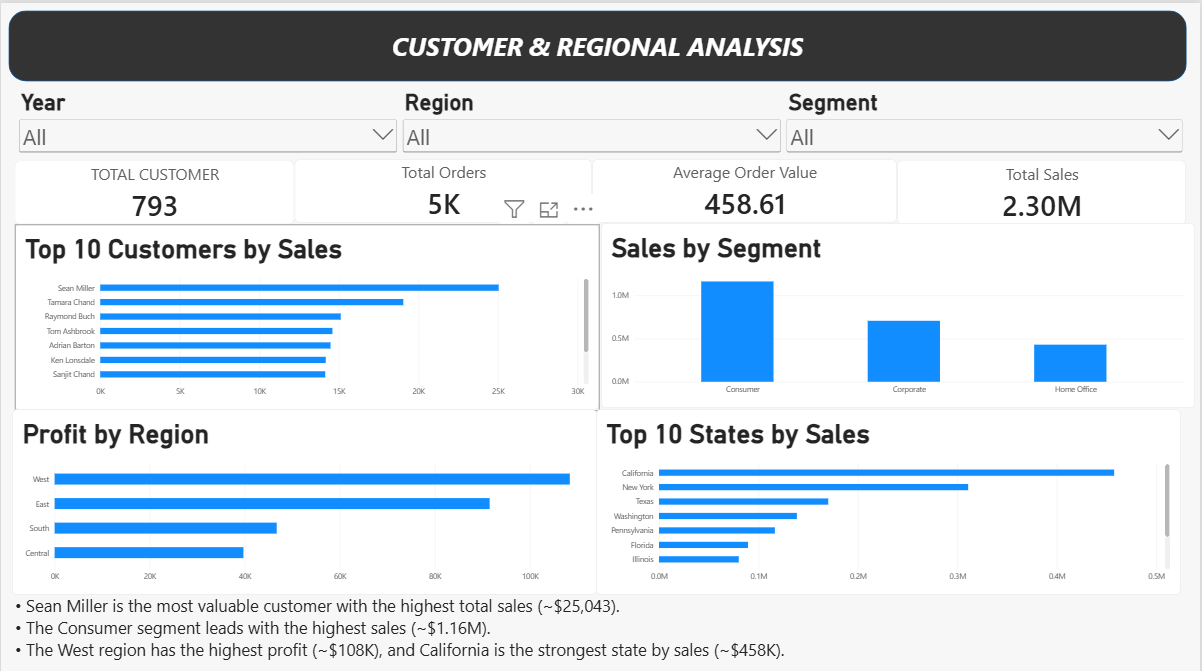

What the dashboard file says about the page in this screenshot:
{"tool":"powerbi","page":{"name":"Customer Analysis","canvas":[1920,1080],"ordinal":2},"visuals":[{"type":"shape","box":[0,0,1909.2,137.5],"z":0},{"type":"slicer","fields":{"Values":["Superstore_Sales_Cleaned.Order Date.Variation.Date Hierarchy.Year"]},"box":[23.8,138.5,614.6,114.7],"z":1000},{"type":"slicer","fields":{"Values":["Superstore_Sales_Cleaned.Region"]},"box":[637.5,137.5,614.6,114.7],"z":2000},{"type":"slicer","fields":{"Values":["Superstore_Sales_Cleaned.Segment"]},"box":[1252.1,137.5,643.8,114.6],"z":3000},{"type":"cardVisual","fields":{"Data":["Superstore_Sales_Cleaned.TOTAL CUSTOMER"]},"box":[22.9,252.1,447.9,102.1],"z":3001},{"type":"cardVisual","fields":{"Data":["Superstore_Sales_Cleaned.Total Orders"]},"box":[470.8,250,475,102.1],"z":3002},{"type":"cardVisual","fields":{"Data":["Superstore_Sales_Cleaned.Average Order Value"]},"box":[945.8,250,487.5,102.1],"z":3003},{"type":"cardVisual","fields":{"Data":["Superstore_Sales_Cleaned.Total Sales"]},"box":[1433.3,252.1,462.5,102.1],"z":3004},{"type":"barChart","title":" Top 10 Customers by Sales","fields":{"Category":["Superstore_Sales_Cleaned.Customer Name"],"Y":["Sum(Superstore_Sales_Cleaned.Sales)"]},"box":[21.8,354.5,935.6,296.8],"z":3005},{"type":"columnChart","title":" Sales by Segment","fields":{"Category":["Superstore_Sales_Cleaned.Segment"],"Y":["Sum(Superstore_Sales_Cleaned.Sales)"]},"box":[960.4,352.1,950,295.8],"z":3006},{"type":"clusteredBarChart","title":" Profit by Region ","fields":{"Category":["Superstore_Sales_Cleaned.Region"],"Y":["Sum(Superstore_Sales_Cleaned.Profit)"]},"box":[18.8,650,935.6,296.8],"z":3007},{"type":"clusteredBarChart","title":"Top 10 States by Sales","fields":{"Category":["Superstore_Sales_Cleaned.State"],"Y":["Sum(Superstore_Sales_Cleaned.Sales)"]},"box":[952.1,650,935.6,296.8],"z":3008},{"type":"textbox","box":[22.9,945.8,1864.6,133.3],"z":3009}]}

Visuals, with their boxes in screenshot pixels (x1, y1, x2, y2), scaled from the page's 1920x1080 canvas onto the 1202x671 screenshot:
shape: <bbox>0, 0, 1195, 85</bbox>
slicer - Superstore_Sales_Cleaned.Order Date.Variation.Date Hierarchy.Year: <bbox>15, 86, 400, 157</bbox>
slicer - Superstore_Sales_Cleaned.Region: <bbox>399, 85, 784, 157</bbox>
slicer - Superstore_Sales_Cleaned.Segment: <bbox>784, 85, 1187, 157</bbox>
cardVisual - Superstore_Sales_Cleaned.TOTAL CUSTOMER: <bbox>14, 157, 295, 220</bbox>
cardVisual - Superstore_Sales_Cleaned.Total Orders: <bbox>295, 155, 592, 219</bbox>
cardVisual - Superstore_Sales_Cleaned.Average Order Value: <bbox>592, 155, 897, 219</bbox>
cardVisual - Superstore_Sales_Cleaned.Total Sales: <bbox>897, 157, 1187, 220</bbox>
" Top 10 Customers by Sales" barChart: <bbox>14, 220, 599, 405</bbox>
" Sales by Segment" columnChart: <bbox>601, 219, 1196, 403</bbox>
" Profit by Region " clusteredBarChart: <bbox>12, 404, 597, 588</bbox>
"Top 10 States by Sales" clusteredBarChart: <bbox>596, 404, 1182, 588</bbox>
textbox: <bbox>14, 588, 1182, 670</bbox>
